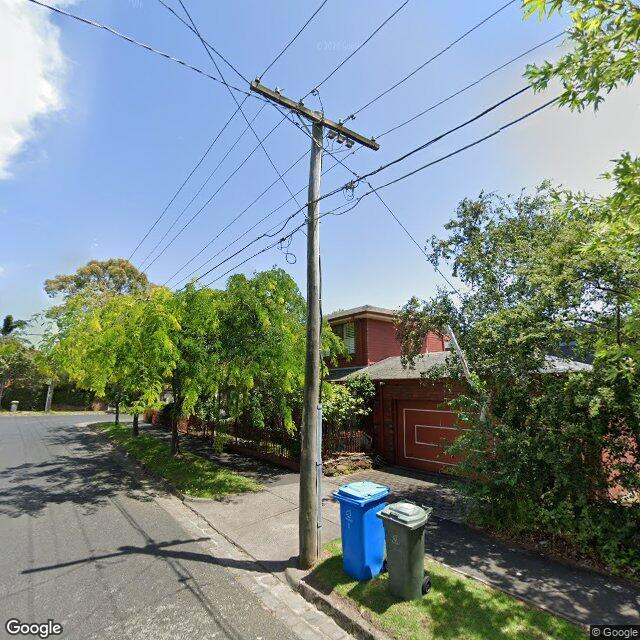crossarm: (250, 82, 380, 152)
timber-pole: (299, 110, 323, 570)
